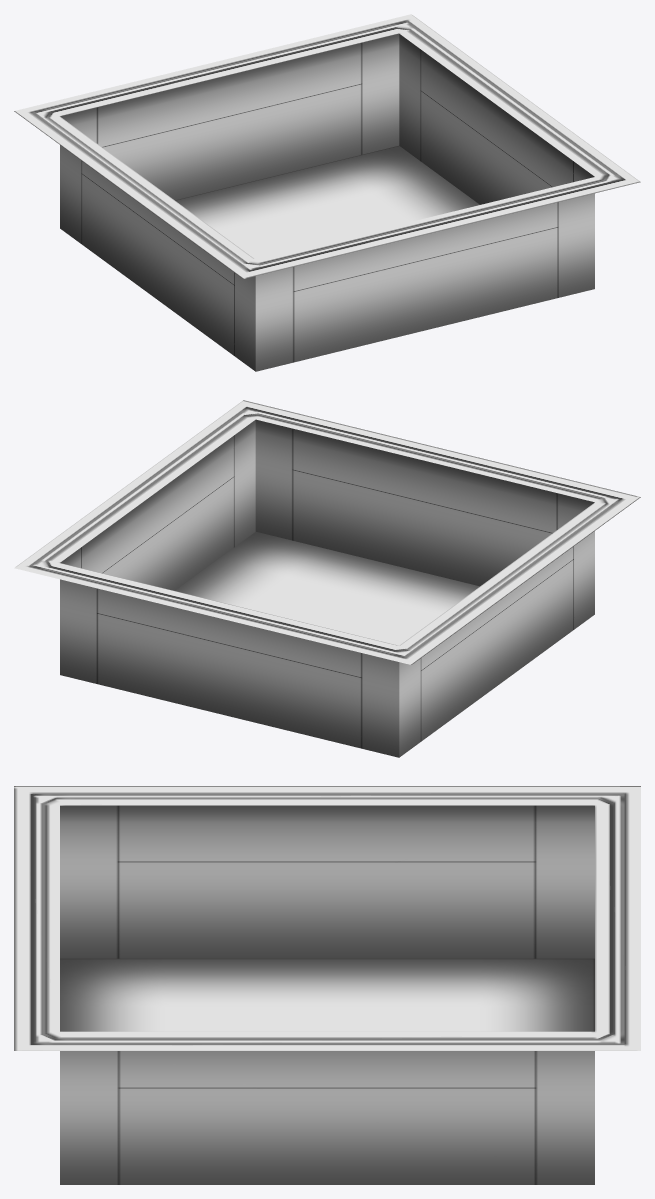
File: Sect_Floor_20.FBX
3 views of the same model, one above another, from view 1: azimuth 30°, elevation 25°; view 2: azimuth 150°, elevation 25°; view 3: azimuth 270°, elevation 25° (orthographic). The views are drawn at different scales.
Visible parts, largest first — view 1: Sect_Floor_BaseA_002; view 2: Sect_Floor_BaseA_002; view 3: Sect_Floor_BaseA_002.
Boxes of the visible parts, left/top/right/bottom form: Sect_Floor_BaseA_002: left=14, top=14, right=640, bottom=371; Sect_Floor_BaseA_002: left=14, top=400, right=640, bottom=757; Sect_Floor_BaseA_002: left=14, top=786, right=640, bottom=1184.
Size of the model in its own units: 4 by 1.08 by 4.
